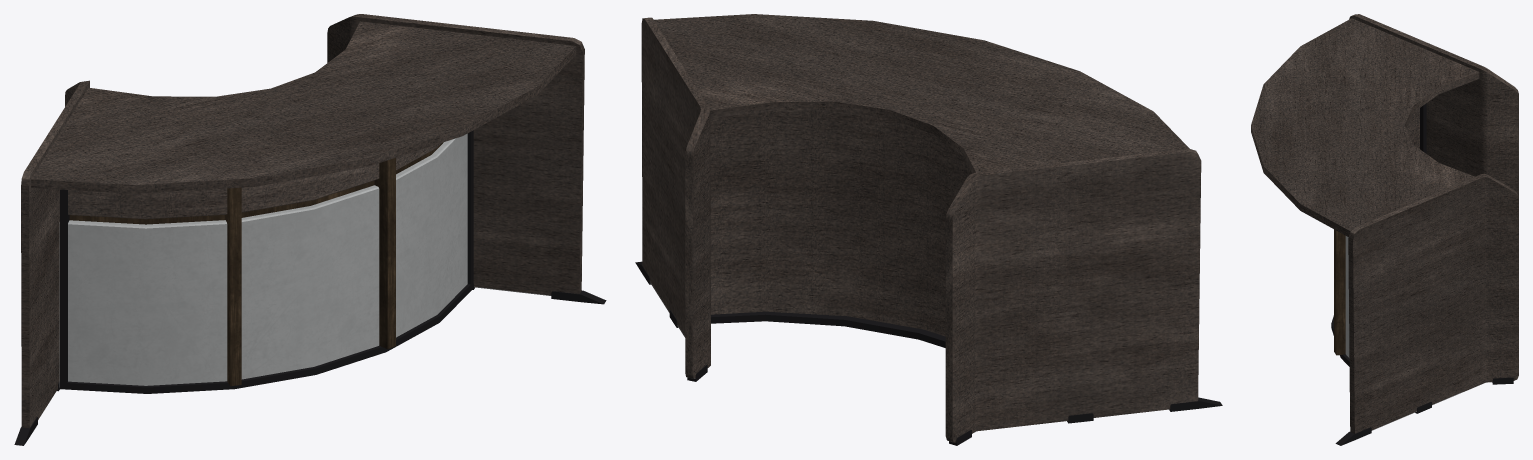
The model's file is oldRecepDesk.glb.
3 views of the same model, side by side, from view 1: azimuth 30°, elevation 25°; view 2: azimuth 150°, elevation 25°; view 3: azimuth 270°, elevation 25° (orthographic). The views are drawn at different scales.
Visible parts, largest first — view 1: desktop_geo; view 2: desktop_geo; view 3: desktop_geo.
Boxes of the visible parts, x1,y1,x2,y2 form: desktop_geo: (14,14,606,445); desktop_geo: (635,14,1222,445); desktop_geo: (1251,14,1518,445).
Size of the model in its own units: 2.55 by 1.07 by 1.24.
Materials: 1 (1 with a texture image).
